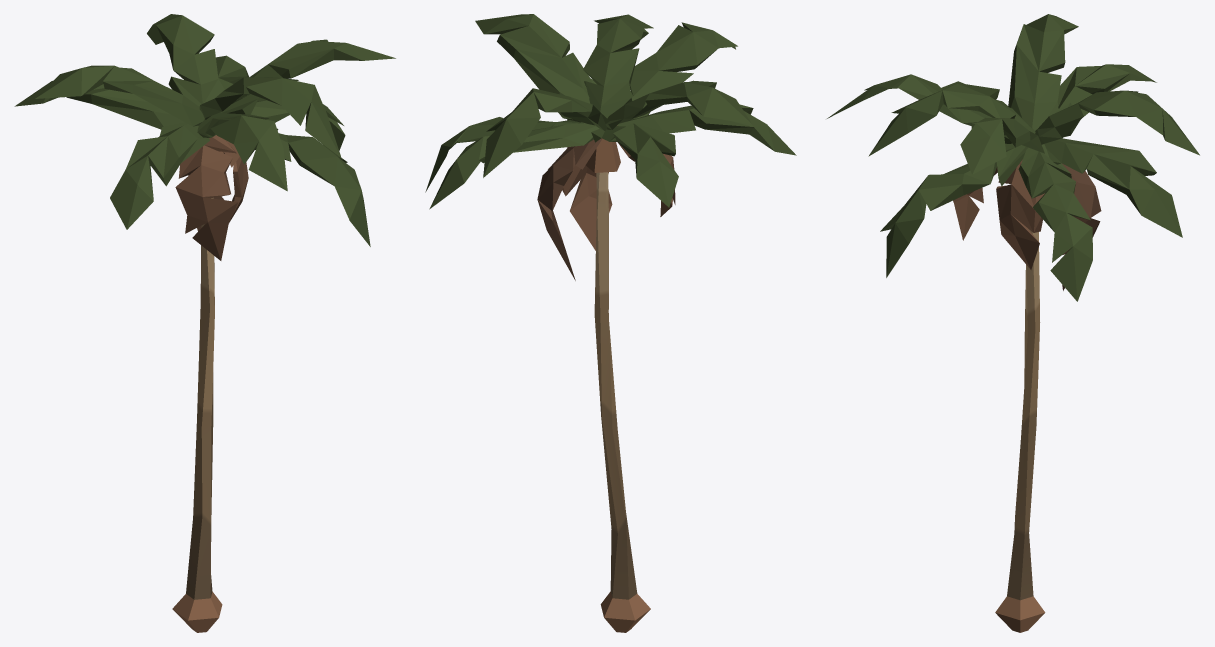
The model's file is SM_Env_Palm_01.fbx.
3 views of the same model, side by side, from view 1: azimuth 30°, elevation 25°; view 2: azimuth 150°, elevation 25°; view 3: azimuth 270°, elevation 25° (orthographic). The views are drawn at different scales.
Parts seen in each view (by area): view 1: SM_Env_Palm_01; view 2: SM_Env_Palm_01; view 3: SM_Env_Palm_01.
Part boxes in pixels (left/top/right/bottom): SM_Env_Palm_01: left=14, top=14, right=395, bottom=632; SM_Env_Palm_01: left=425, top=14, right=796, bottom=632; SM_Env_Palm_01: left=827, top=14, right=1199, bottom=632.
Size of the model in its own units: 251 by 434 by 261.
